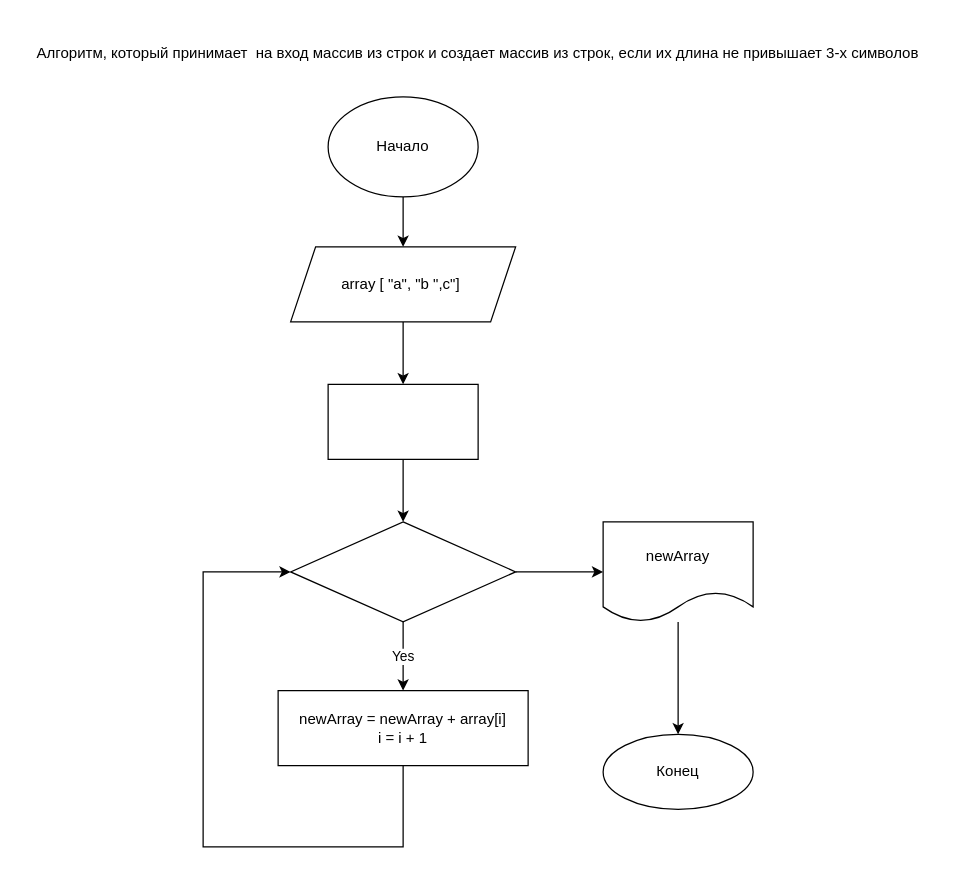
The diagram is 955 pixels wide and 879 high, and some of its shapes have lost their labels. Each missing label, with the centre of its shape:
"newArray = [ ] i = 0" belongs at pixel 402 421.
"string.Length(array[i] <= 3" belongs at pixel 402 571.
